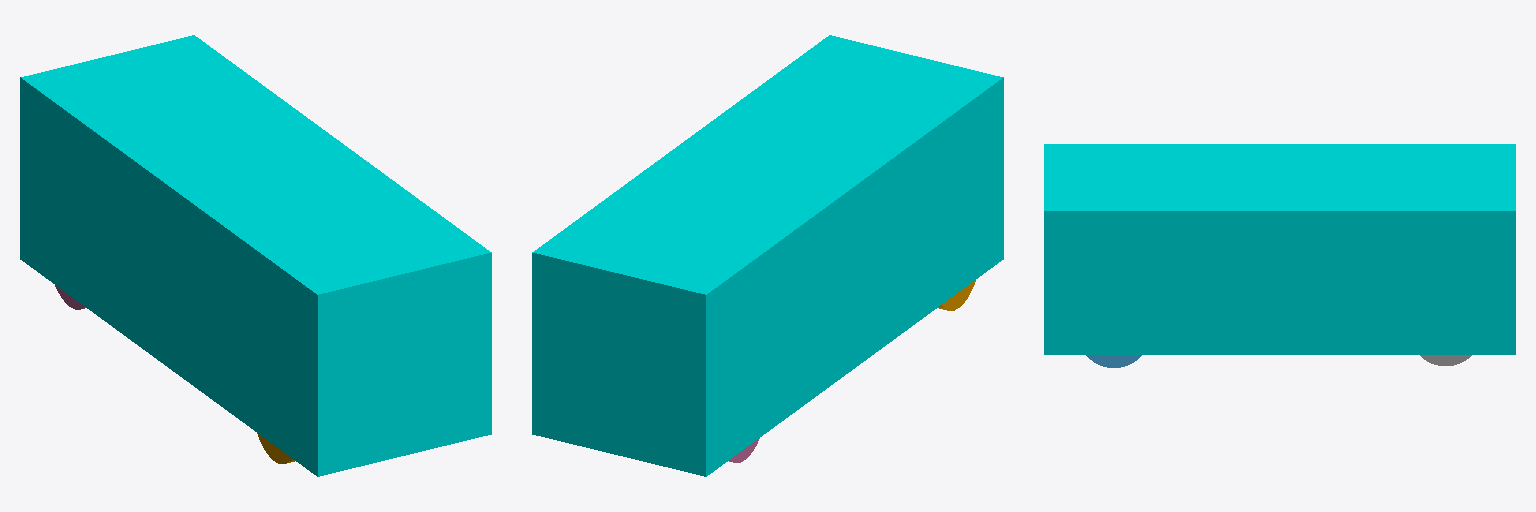
The robot description file, URDF, robot "vehicle":
<?xml version="1.0"?>

<!-- note: if inertia values are set to 0, bullet will re-compute our inertias for us-->
<robot xmlns:xacro="http://ros.org/wiki/xacro" name="vehicle">
  <link name="base_link">
    <inertial>
      <mass value="1"/>
      <inertia ixx="0" ixy="0" ixz="0" iyy="0" iyz="0" izz="0"/>
    </inertial>
  </link>
  <link name="chassis">
    <visual>
      <origin xyz="0.0 0.0 1.4" rpy="0 0 0"/>
      <geometry>
        <box size="2.4 7.1 2.4"/>
      </geometry>
	  <material name="Cyan1">
	    <color rgba="0 0.9 0.9 0.3"/>
	  </material>
    </visual>
    <collision name="chassis">
      <origin xyz="0.0 0.0 1.4" rpy="0 0 0"/>
      <geometry>
        <box size="2.4 7.1 2.4"/>
      </geometry>
    </collision>
    <inertial>
      <mass value="3500.0"/>
      <origin xyz="0 -0.1 0.20" rpy="0 0 1.5708"/>
      <inertia ixx="27380" ixy="0.0" ixz="0.0" iyy="5300" iyz="0.0" izz="26920"/>
    </inertial>
  </link>
  <link name="cab">
    <visual>
      <origin xyz="0.0 0.0 1.4" rpy="0 0 0"/>
      <geometry>
        <box size="2.0 1.8 2.0"/>
      </geometry>
	  <material name="Red 1">
	    <color rgba="0.9 0.1 0.1 1.0"/>
	  </material>
    </visual>
    <!--
    <collision name="cab">
      <origin xyz="0.0 0.0 1.4" rpy="0 0 0"/>
      <geometry>
        <box size="2.0 1.8 1.6"/>
      </geometry>
    </collision>
    -->
    <inertial>
      <mass value="2500.0"/>
      <origin xyz="0 -0.1 0.20" rpy="0 0 1.5708"/> 
      <inertia ixx="27380" ixy="0.0" ixz="0.0" iyy="5300" iyz="0.0" izz="26920"/>
    </inertial>
  </link>
  <link name="box">
    <visual>
      <origin xyz="0.0 0.0 1.4" rpy="0 0 0"/>
      <geometry>
        <box size="2.3 5.05 2.05"/>
      </geometry>
	  <material name="Red 1">
	    <color rgba="0.9 0.1 0.1 1.0"/>
	  </material>
    </visual>
    <!--
    <collision name="box">
      <origin xyz="0.0 0.0 1.4" rpy="0 0 0"/>
      <geometry>
        <box size="2.3 6.05 2.3"/>
      </geometry>
    </collision>
    -->
    <inertial>
      <mass value="500.0"/>
      <origin xyz="0 -0.1 0.20" rpy="0 0 1.5708"/>
      <inertia ixx="27380" ixy="0.0" ixz="0.0" iyy="5300" iyz="0.0" izz="26920"/>
    </inertial>
  </link>
  <link name="fl_axle">
    <inertial>
      <mass value="5"/>
      <origin xyz="0 0 0"/>
      <inertia ixx="0" ixy="0" ixz="0" iyy="0" iyz="6" izz="0"/>
    </inertial>
  </link>
  <link name="fr_axle">
    <inertial>
      <mass value="5"/>
      <origin xyz="0 0 0"/>
      <inertia ixx="0" ixy="0" ixz="0" iyy="0" iyz="6" izz="0"/>
    </inertial>
  </link>
  <link name="front_left_wheel">
    <inertial>
      <mass value="25"/>
      <origin xyz="0 0 0"/>
      <inertia ixx="0" ixy="0" ixz="0" iyy="0" iyz="0" izz="4"/>
    </inertial>
    <collision name="front_left_wheel_collision">
      <origin rpy="0 1.5707963267948966 0"/>
      <geometry>
        <cylinder length="0.35" radius="0.52"/>
      </geometry>
    </collision>
    <visual>
      <origin rpy="0 1.5707963267948966 0"/>
      <geometry>
        <cylinder length="0.35" radius="0.52"/>
      </geometry>
    </visual>
  </link>
  <link name="front_right_wheel">
    <inertial>
      <mass value="25"/>
      <origin xyz="0 0 0"/>
      <inertia ixx="0" ixy="0" ixz="0" iyy="0" iyz="0" izz="4"/>
    </inertial>
    <collision name="front_right_wheel_collision">
      <origin rpy="0 1.5707963267948966 0"/>
      <geometry>
        <cylinder length="0.35" radius="0.52"/>
      </geometry>
    </collision>
    <visual>
      <origin rpy="0 1.5707963267948966 0"/>
      <geometry>
        <cylinder length="0.35" radius="0.52"/>
      </geometry>
    </visual>
  </link>
  <link name="rear_left_wheel">
    <inertial>
      <mass value="25"/>
      <origin xyz="0 0 0"/>
      <inertia ixx="0" ixy="0" ixz="0" iyy="0" iyz="0" izz="4"/>
    </inertial>
    <collision name="rear_left_wheel_collision">
      <origin rpy="0 1.5707963267948966 0"/>
      <geometry>
        <cylinder length="0.7" radius="0.52"/>
      </geometry>
    </collision>
    <visual>
      <origin rpy="0 1.5707963267948966 0"/>
      <geometry>
        <cylinder length="0.7" radius="0.52"/>
      </geometry>
    </visual>
  </link>
  <link name="rear_right_wheel">
    <inertial>
      <mass value="25"/>
      <origin xyz="0 0 0"/>
      <inertia ixx="0" ixy="0" ixz="0" iyy="0" iyz="0" izz="4"/>
    </inertial>
    <collision name="rear_right_wheel_collision">
      <origin rpy="0 1.5707963267948966 0"/>
      <geometry>
        <cylinder length="0.7" radius="0.52"/>
      </geometry>
    </collision>
    <visual>
      <origin rpy="0 1.5707963267948966 0"/>
      <geometry>
        <cylinder length="0.7" radius="0.52"/>
      </geometry>
    </visual>
  </link>
  <joint name="base_link_connection" type="fixed">
    <parent link="base_link"/>
    <child link="chassis"/>
    <origin xyz="0 0 0" rpy="0 0 3.141592653589793"/>
  </joint>
  <joint name="cab_link_connection" type="fixed">
    <parent link="chassis"/>
    <child link="cab"/>
    <origin xyz="0 -2.60 0" rpy="0 0 3.141592653589793"/>
  </joint>
  <joint name="box_link_connection" type="fixed">
    <parent link="chassis"/>
    <child link="box"/>
    <origin xyz="0 0.9 0.15" rpy="0 0 3.141592653589793"/>
  </joint>

  <joint name="front_left_steer_joint" type="revolute">
    <parent link="chassis"/>
    <child link="fl_axle"/>
    <origin xyz="0.95 -2.5 0.5" rpy="0 0 0"/>
    <axis xyz="0 0 1"/>
    <limit lower="-0.8727" upper="0.8727" effort="10000000" velocity="1000000"/>
  </joint>
  <joint name="front_right_steer_joint" type="revolute">
    <parent link="chassis"/>
    <child link="fr_axle"/>
    <origin xyz="-0.95 -2.5 0.5" rpy="0 0 0"/>
    <axis xyz="0 0 1"/>
    <limit lower="-0.8727" upper="0.8727" effort="10000000" velocity="1000000"/>
  </joint>
  <joint name="front_left_wheel_joint" type="continuous">
    <parent link="fl_axle"/>
    <child link="front_left_wheel"/>
    <origin xyz="0 0 0" rpy="0 0 0"/>
    <axis xyz="1 0 0"/>
  </joint>
  <joint name="front_right_wheel_joint" type="continuous">
    <parent link="fr_axle"/>
    <child link="front_right_wheel"/>
    <origin xyz="0 0 0" rpy="0 0 0"/>
    <axis xyz="1 0 0"/>
  </joint>

  <joint name="rear_left_wheel_joint" type="continuous">
    <parent link="chassis"/>
    <child link="rear_left_wheel"/>
    <origin xyz="0.84 2.5 0.5" rpy="0 0 0"/>
    <axis xyz="1 0 0"/>
  </joint>
  <joint name="rear_right_wheel_joint" type="continuous">
    <parent link="chassis"/>
    <child link="rear_right_wheel"/>
    <origin xyz="-0.84 2.5 0.5" rpy="0 0 0"/>
    <axis xyz="1 0 0"/>
  </joint>
</robot>

--- Facts derived from the render (not from the file) ---
The picture shows the robot from 3 angles, left to right: view 1: azimuth 30°, elevation 25°; view 2: azimuth 150°, elevation 25°; view 3: azimuth 270°, elevation 25°; orthographic projection.
Robot: vehicle — 10 links, 9 joints (2 revolute, 4 continuous, 3 fixed); root link base_link; default pose: every joint at zero.
Links seen in each view (by area): view 1: chassis; view 2: chassis; view 3: chassis.
Link boxes in pixels (x1,y1,x2,y2): chassis: [20, 35, 491, 476]; chassis: [532, 35, 1003, 476]; chassis: [1044, 144, 1515, 354].
Size in the robot's own frame: 2.4 by 7.1 by 2.62 metres.
Geometry: primitives only (box / cylinder / sphere), no mesh files.